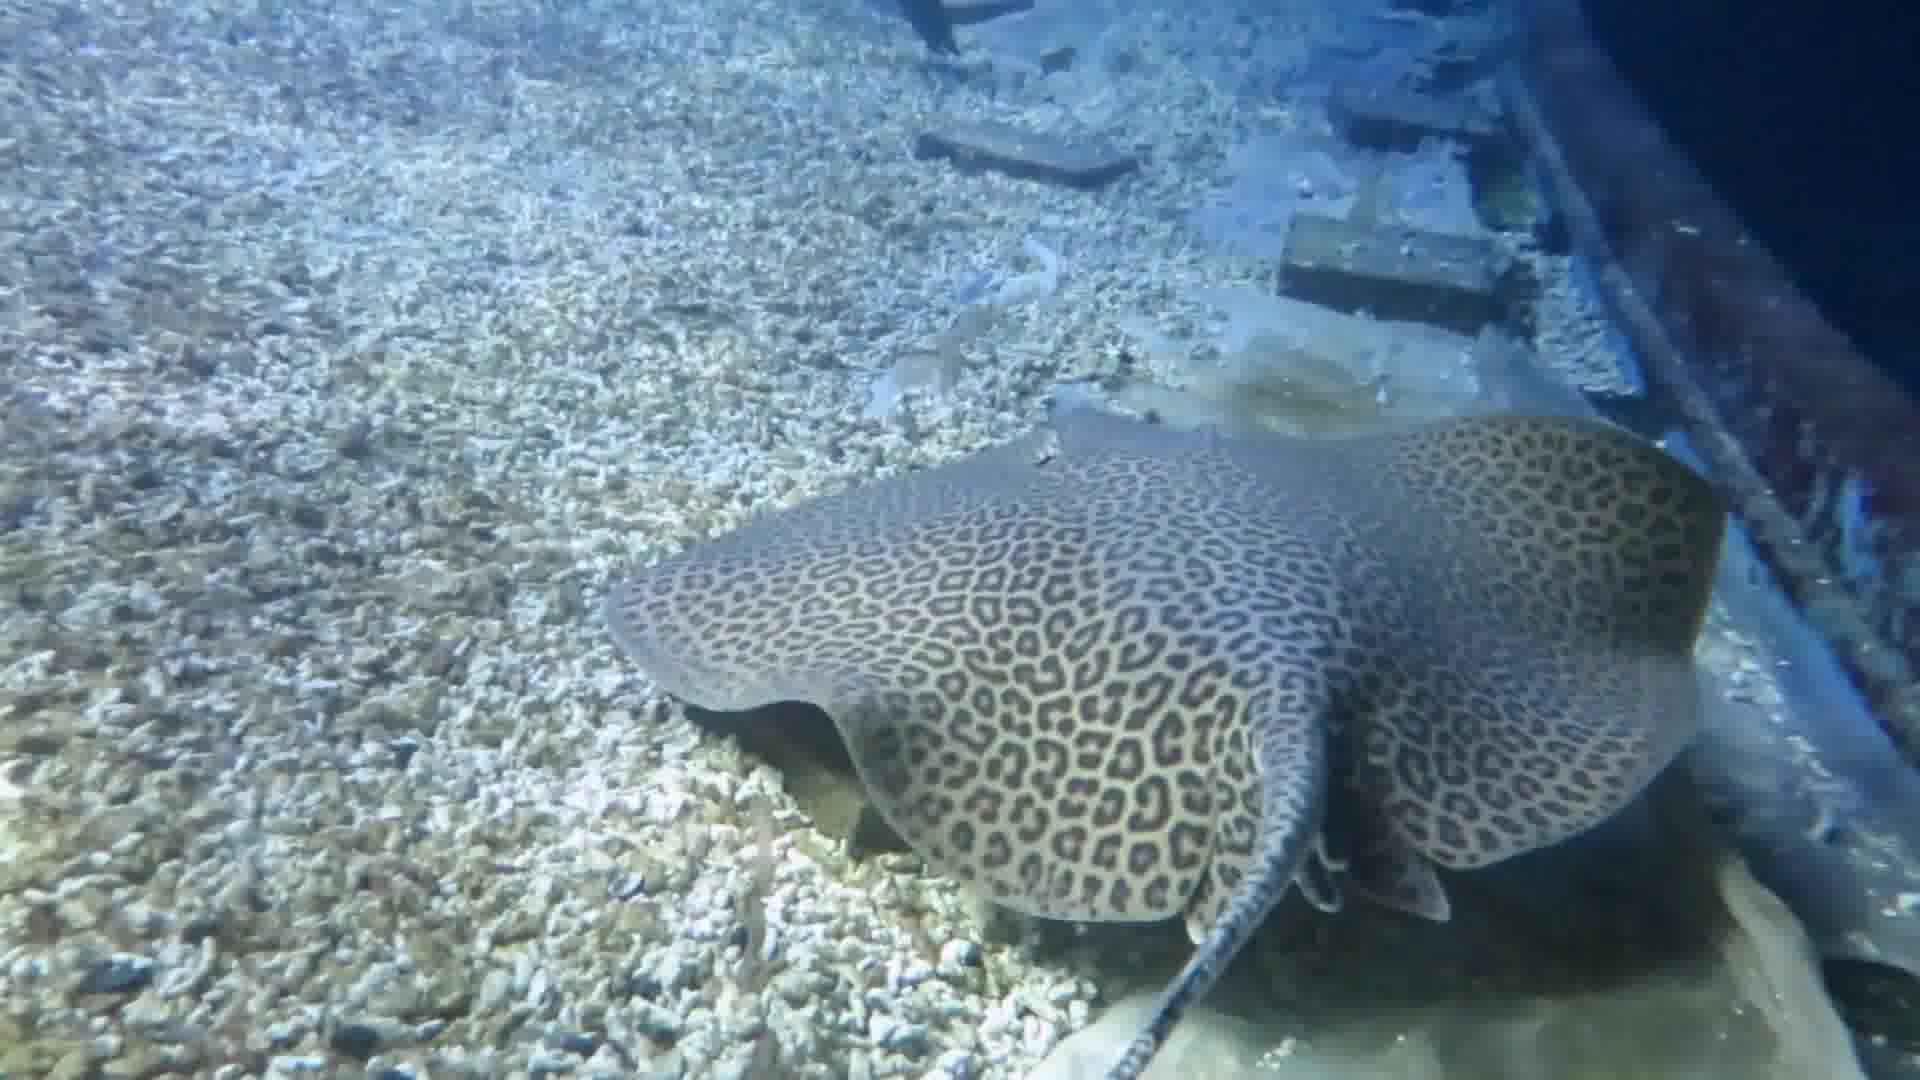Himantura uarnak: (597, 376, 1749, 1080)
